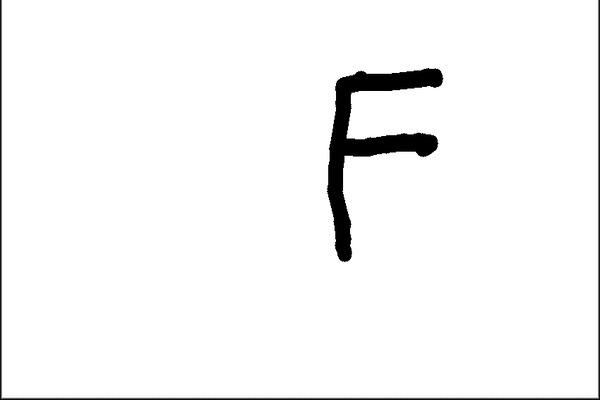F: (319, 62, 446, 265)
